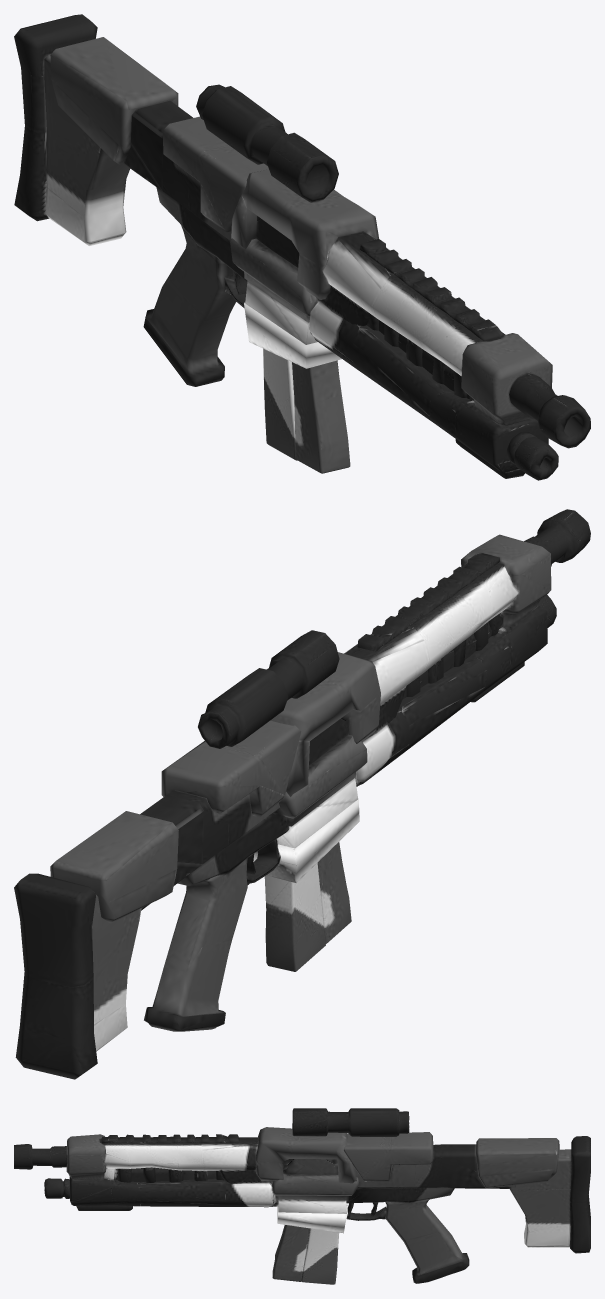
The model's file is vex_gun.glb.
The picture shows the model from 3 angles, top to bottom: view 1: azimuth 30°, elevation 25°; view 2: azimuth 150°, elevation 25°; view 3: azimuth 270°, elevation 25°; orthographic projection. The views are drawn at different scales.
Size of the model in its own units: 0.0662 by 0.2789 by 0.85.
Materials: 1 (1 with a texture image).
